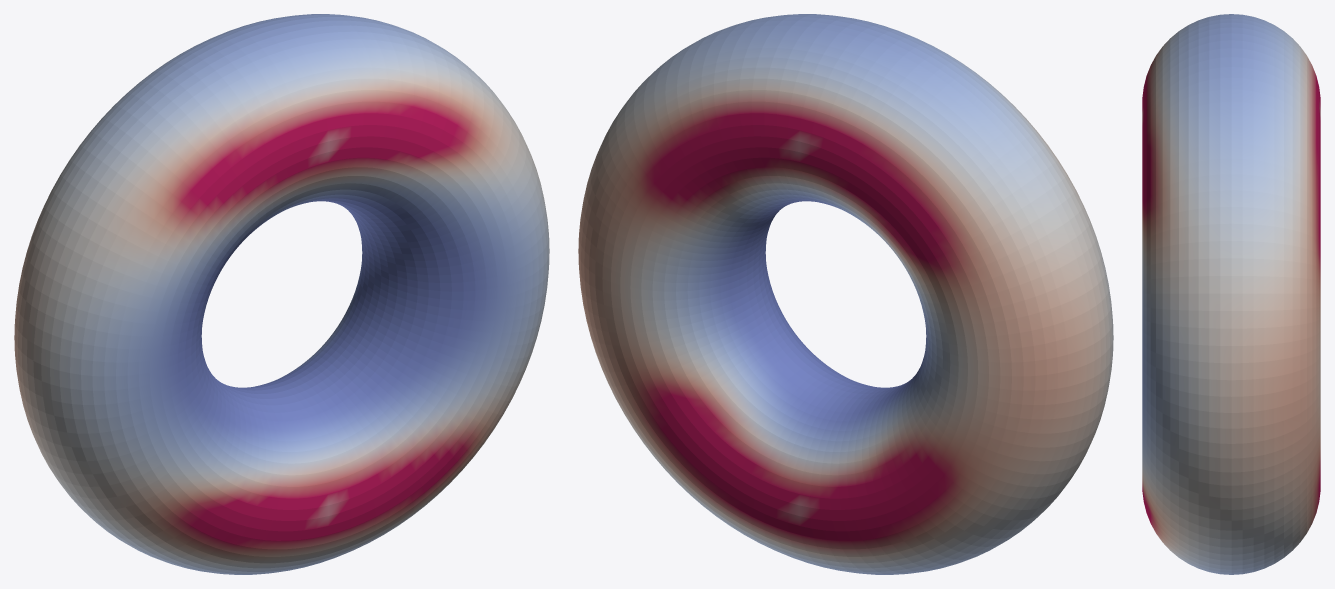
3 renders of one model, left to right at view 1: azimuth 30°, elevation 25°; view 2: azimuth 150°, elevation 25°; view 3: azimuth 270°, elevation 25°, orthographic. The views are drawn at different scales.
Parts seen in each view (by area): view 1: world; view 2: world; view 3: world.
Boxes of the visible parts, bbox=[...] form: world: bbox=[14, 14, 549, 574]; world: bbox=[578, 14, 1113, 574]; world: bbox=[1142, 14, 1320, 574].
Bounding box in the file's own units: 20.53 × 20.53 × 6.52.
